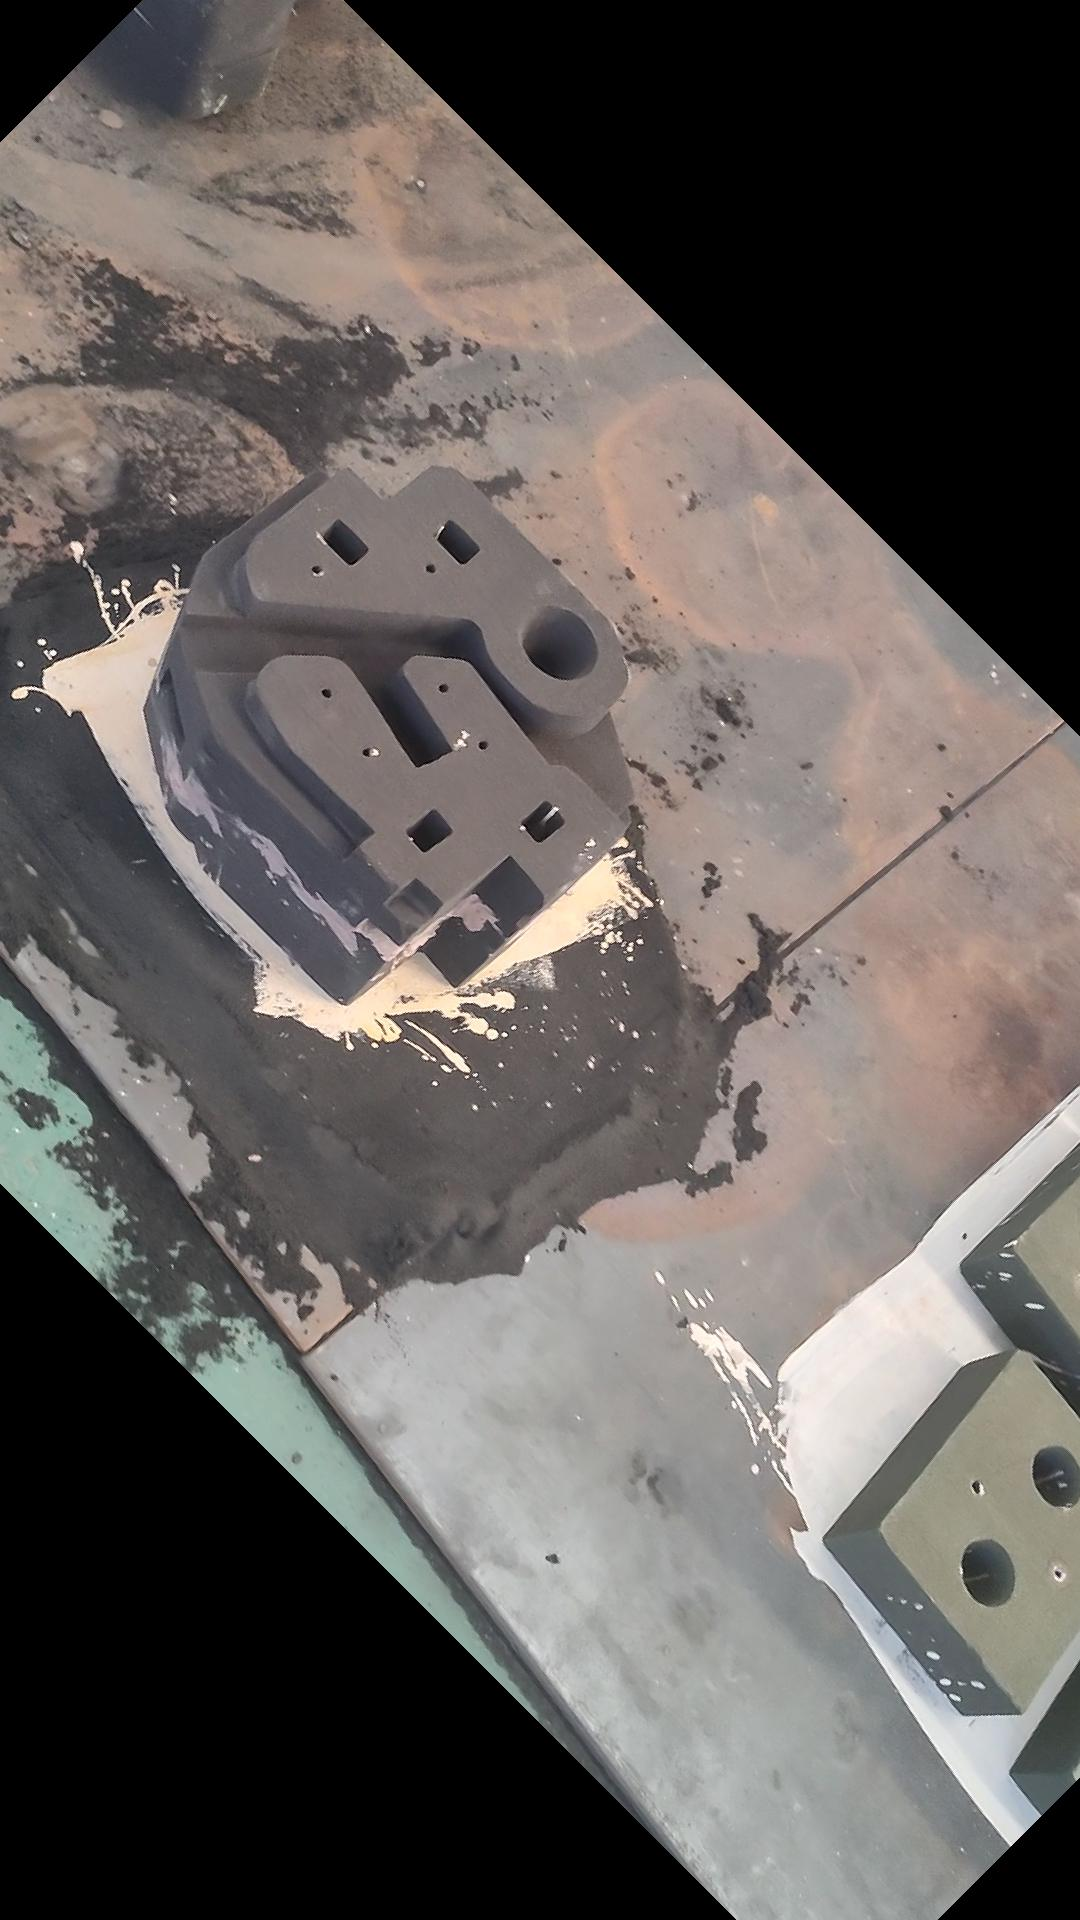pouring hole: (520, 603, 599, 680), (963, 1538, 1015, 1606), (1033, 1444, 1080, 1506)
